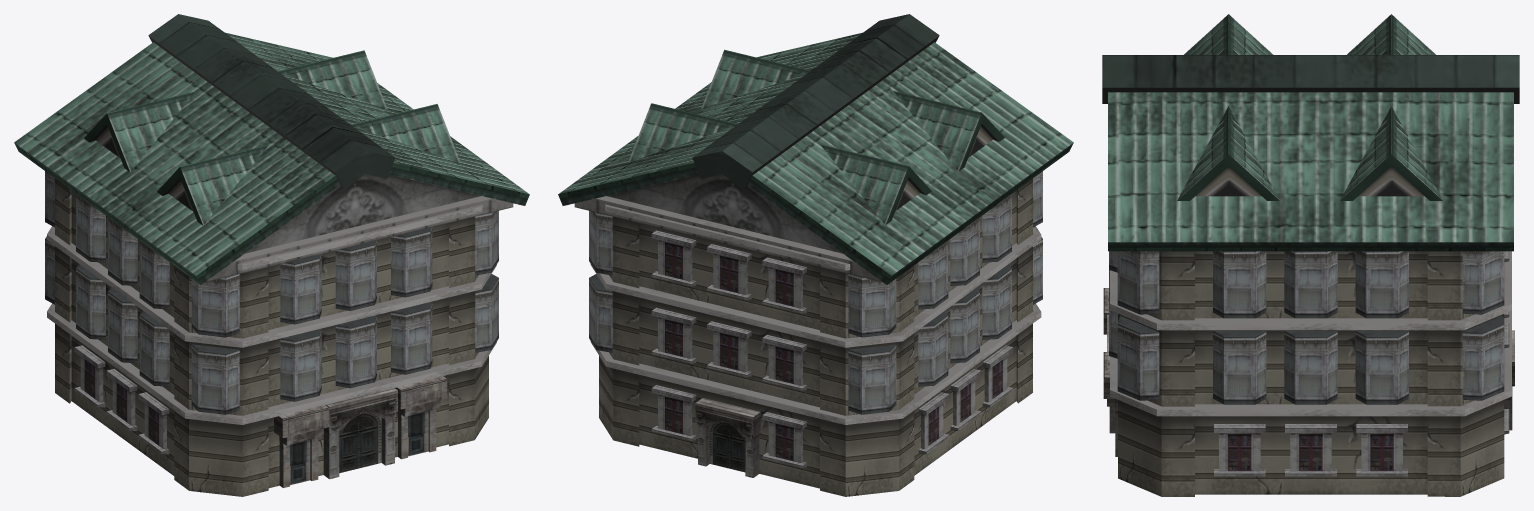
Rendered from Building03_corner2.FBX.
3 views of the same model, side by side, from view 1: azimuth 30°, elevation 25°; view 2: azimuth 150°, elevation 25°; view 3: azimuth 270°, elevation 25° (orthographic). The views are drawn at different scales.
Parts seen in each view (by area): view 1: Building_corner2; view 2: Building_corner2; view 3: Building_corner2.
Part boxes in pixels (x1,y1,x2,y2): Building_corner2: [14, 14, 529, 496]; Building_corner2: [558, 14, 1073, 496]; Building_corner2: [1102, 14, 1519, 496].
Size of the model in its own units: 9.04 by 8.35 by 8.79.
